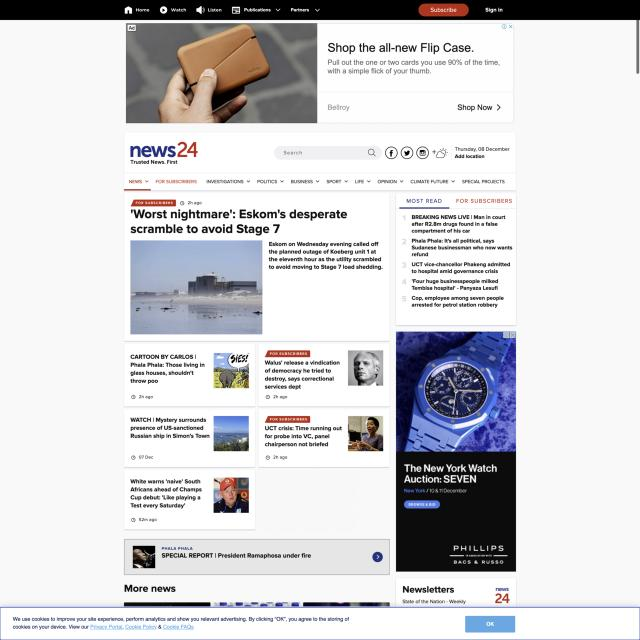input: (274, 146, 382, 160)
logo: (129, 140, 199, 167)
navigation: (125, 176, 507, 188), (121, 2, 326, 18)
